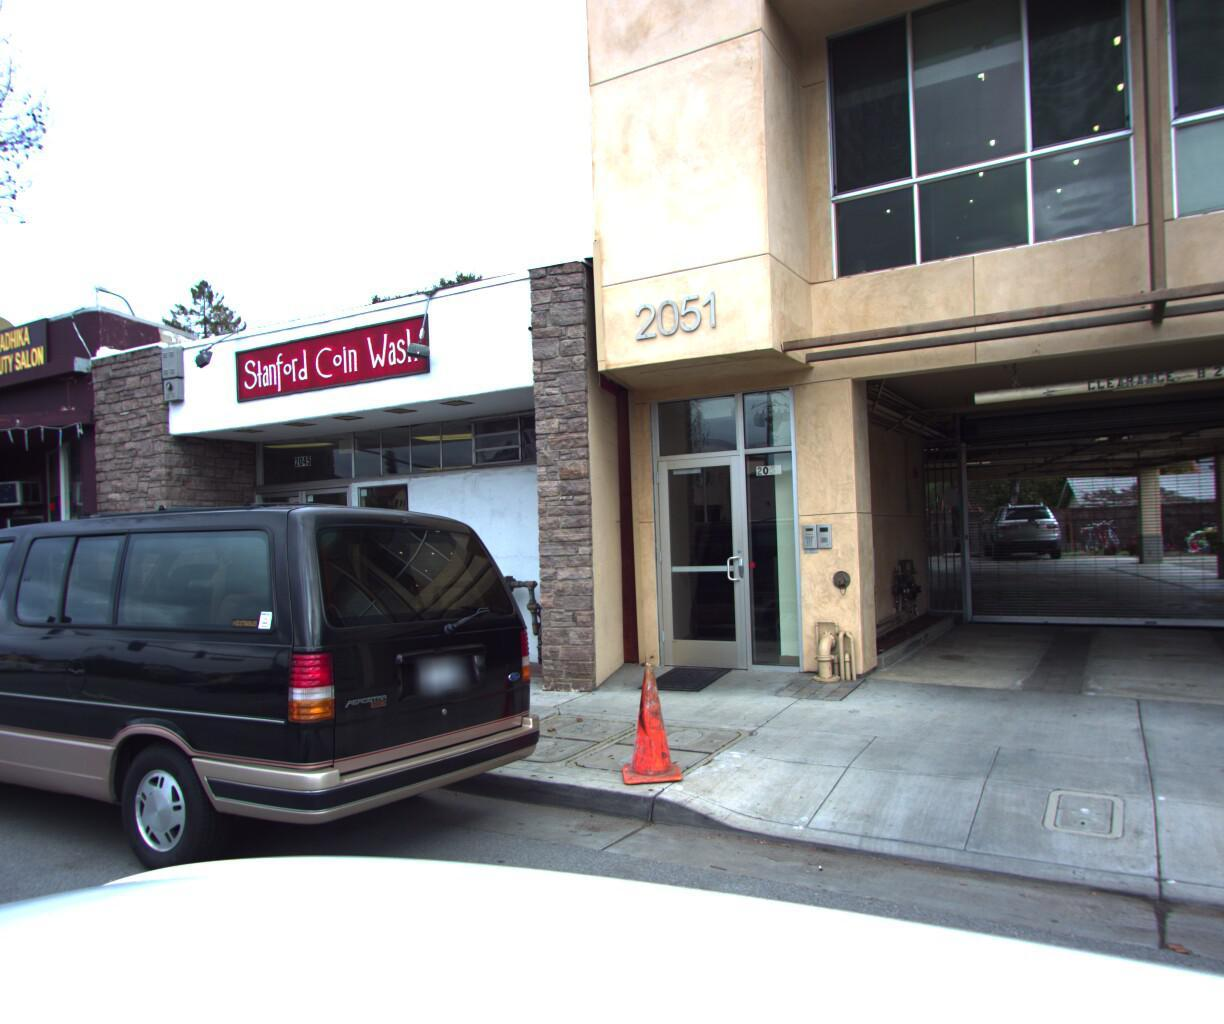car: (0, 469, 573, 987)
